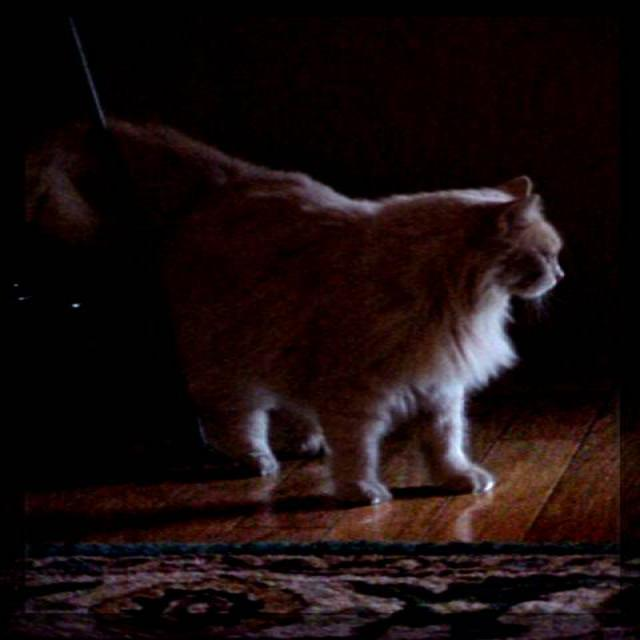Cat: (10, 90, 577, 500)
